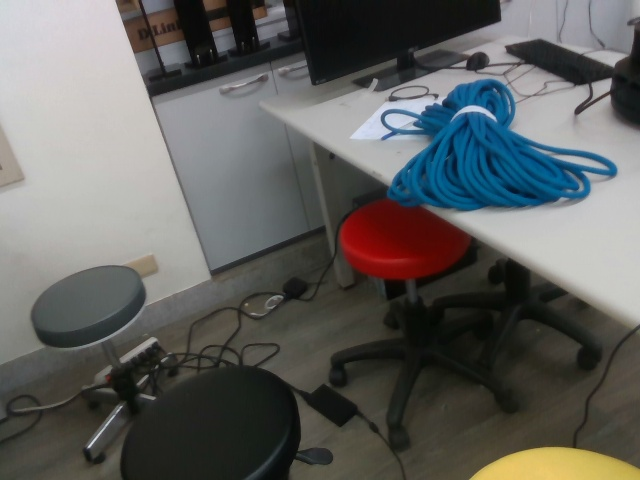rope: (384, 75, 625, 215)
